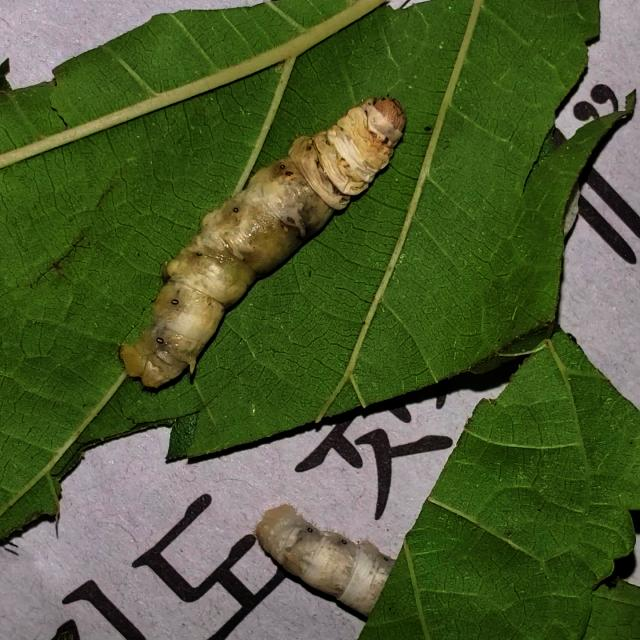Grasserie: (116, 82, 407, 397)
